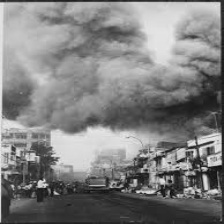smoke: (4, 4, 220, 134)
